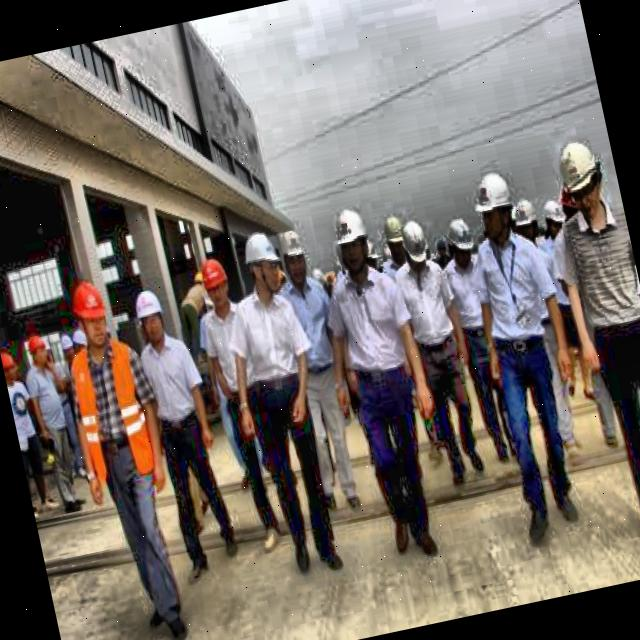helmet: (554, 131, 610, 225), (66, 272, 118, 350), (471, 169, 521, 244), (238, 228, 286, 300), (331, 202, 376, 278), (129, 283, 173, 348), (398, 217, 438, 283), (197, 248, 236, 314), (444, 214, 484, 272), (507, 196, 546, 254), (278, 228, 314, 288), (377, 210, 411, 268), (538, 192, 570, 248), (24, 330, 52, 370), (1, 348, 25, 388)
